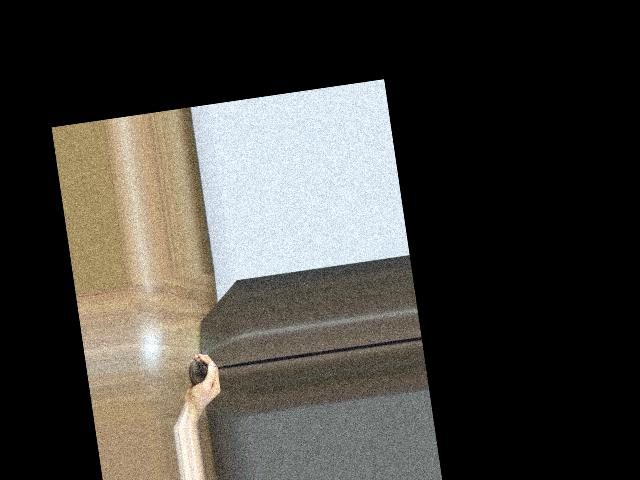beet: (186, 353, 229, 386)
